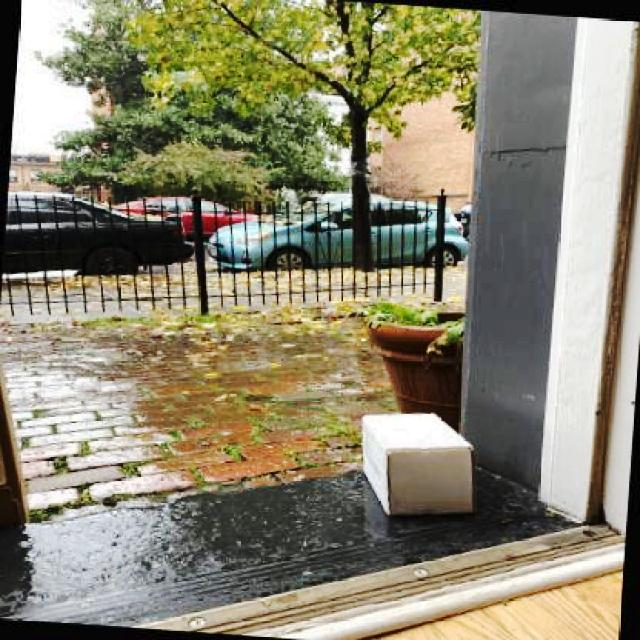Box: (344, 404, 493, 528)
